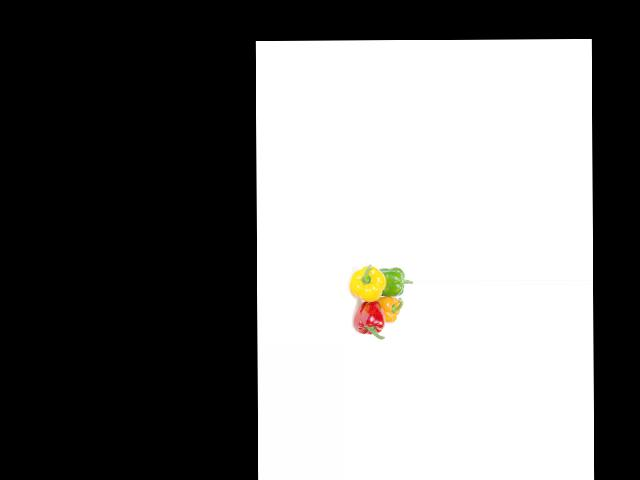bell_pepper: (348, 262, 386, 303)
